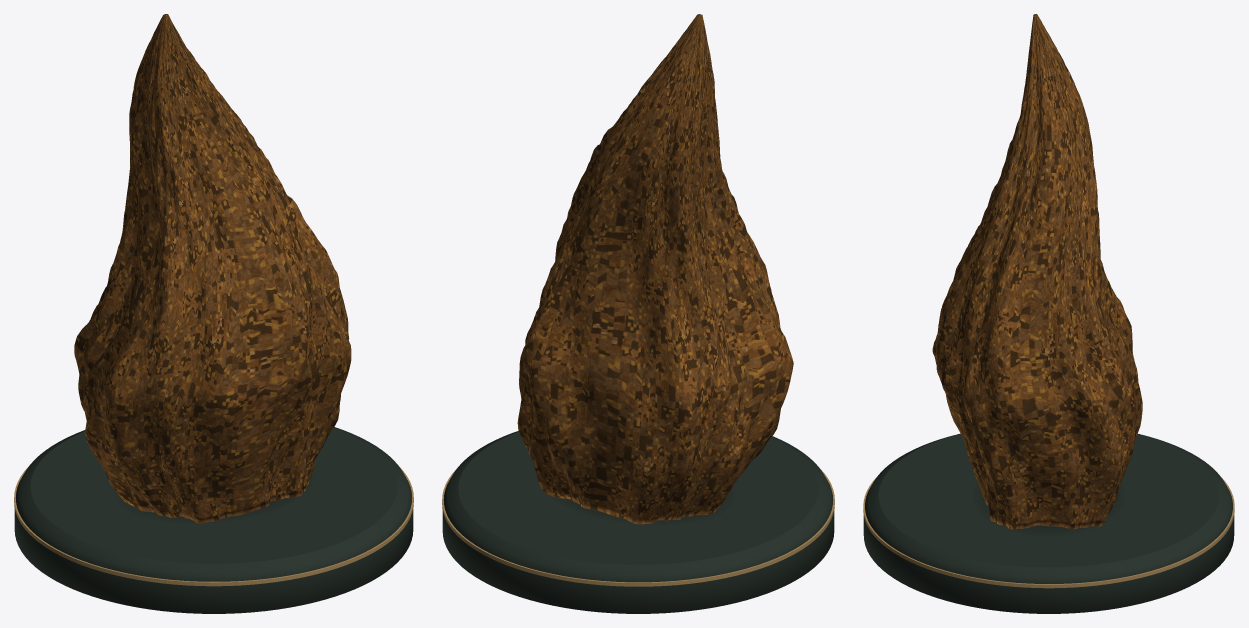
File: lingstone-concept-05-v191-6760a40b4ea3.glb
3 views of the same model, side by side, from view 1: azimuth 30°, elevation 25°; view 2: azimuth 150°, elevation 25°; view 3: azimuth 270°, elevation 25° (orthographic). The views are drawn at different scales.
Parts seen in each view (by area): view 1: XY-CONCEPT-005 concept stone, Centered beveled display plinth, Champagne gold edge; view 2: XY-CONCEPT-005 concept stone, Centered beveled display plinth, Champagne gold edge; view 3: XY-CONCEPT-005 concept stone, Centered beveled display plinth, Champagne gold edge.
Part boxes in pixels (x1,y1,x2,y2): XY-CONCEPT-005 concept stone: (74,14,351,523); Centered beveled display plinth: (14,427,413,613); Champagne gold edge: (14,466,413,586); XY-CONCEPT-005 concept stone: (517,14,793,524); Centered beveled display plinth: (442,430,834,613); Champagne gold edge: (442,469,834,586); XY-CONCEPT-005 concept stone: (932,14,1142,529); Centered beveled display plinth: (863,433,1234,613); Champagne gold edge: (863,477,1234,588).
Size of the model in its own units: 1.46 by 2.18 by 1.46.
4 materials, 1 textured.
